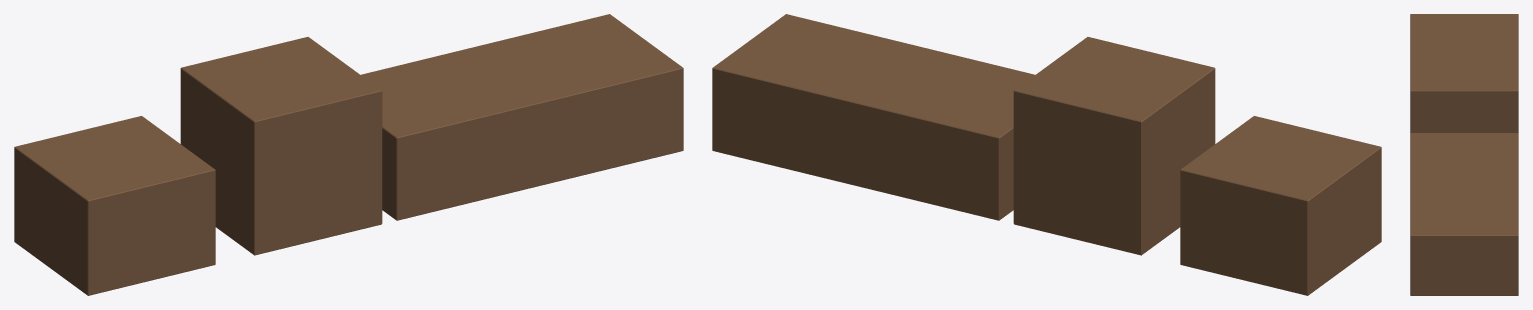
File: Boxes.fbx
3 views of the same model, side by side, from view 1: azimuth 30°, elevation 25°; view 2: azimuth 150°, elevation 25°; view 3: azimuth 270°, elevation 25° (orthographic). The views are drawn at different scales.
Visible parts, largest first — view 1: Cube.017, Cube.015, Cube.016; view 2: Cube.017, Cube.015, Cube.016; view 3: Cube.017, Cube.015, Cube.016.
Part boxes in pixels (bbox=[...]): Cube.017: bbox=[361, 14, 683, 220]; Cube.015: bbox=[180, 37, 382, 255]; Cube.016: bbox=[14, 116, 215, 295]; Cube.017: bbox=[712, 14, 1034, 220]; Cube.015: bbox=[1013, 37, 1215, 255]; Cube.016: bbox=[1180, 116, 1381, 295]; Cube.017: bbox=[1410, 133, 1518, 295]; Cube.015: bbox=[1410, 45, 1518, 133]; Cube.016: bbox=[1410, 14, 1518, 45].
Bounding box in the file's own units: 930 × 200 × 200.
1 material, 1 textured.
